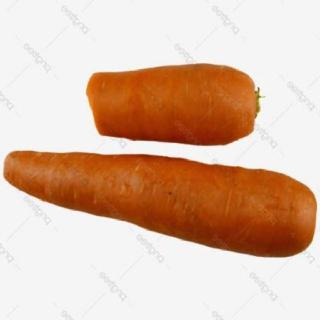carrot: (2, 146, 316, 260), (84, 64, 264, 148)
